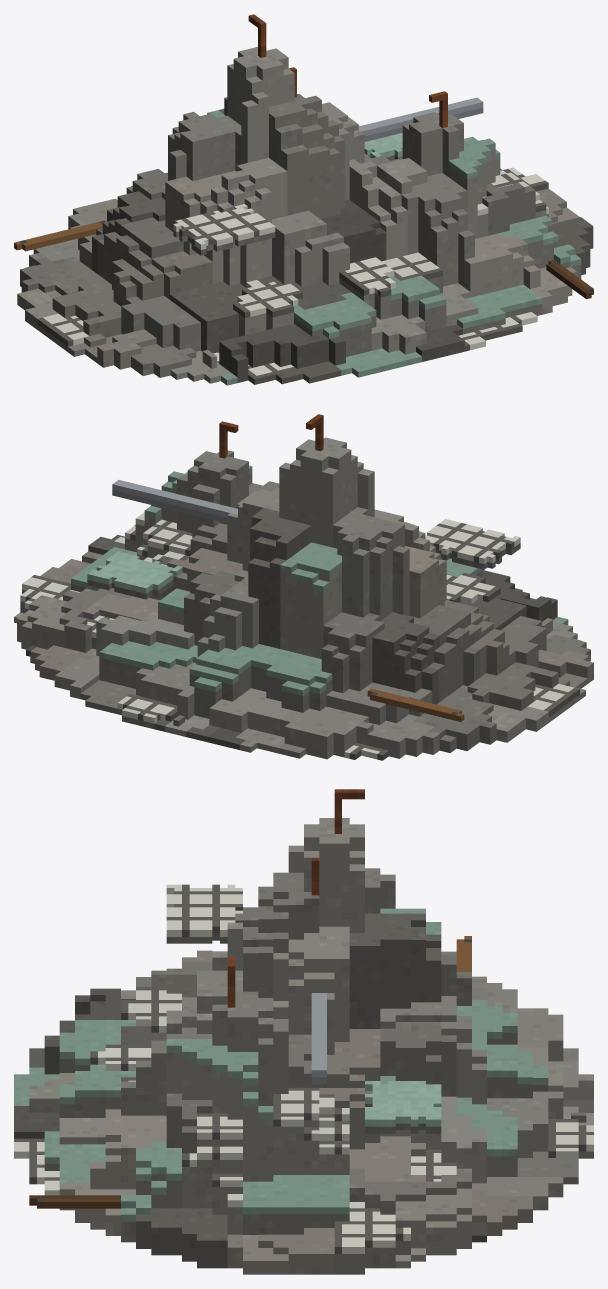
Rendered from gros_gravats.glb.
3 renders of one model, top to bottom at view 1: azimuth 30°, elevation 25°; view 2: azimuth 150°, elevation 25°; view 3: azimuth 270°, elevation 25°, orthographic. The views are drawn at different scales.
Parts seen in each view (by area): view 1: voxel__gros_gravats__block; view 2: voxel__gros_gravats__block; view 3: voxel__gros_gravats__block.
Part boxes in pixels (box(x1,y1,x2,y2)): voxel__gros_gravats__block: box(14, 14, 593, 385); voxel__gros_gravats__block: box(14, 414, 593, 760); voxel__gros_gravats__block: box(14, 789, 593, 1274).
Bounding box in the file's own units: 4.8 × 2.25 × 3.8.
